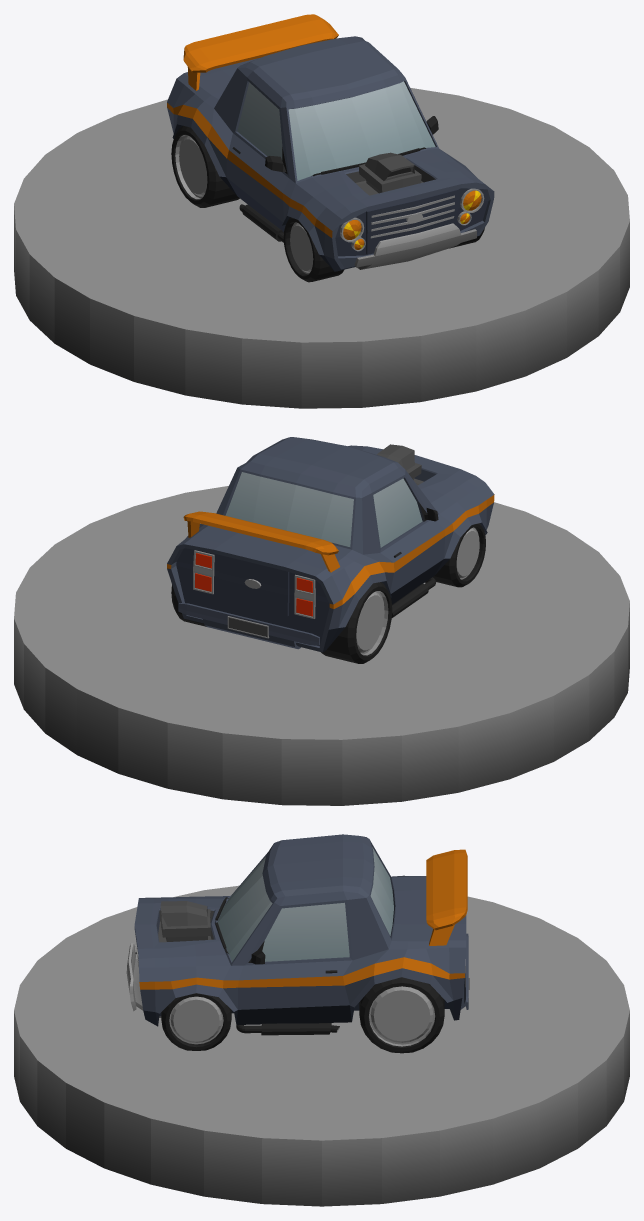
File: little_race_track.glb
3 views of the same model, one above another, from view 1: azimuth 30°, elevation 25°; view 2: azimuth 150°, elevation 25°; view 3: azimuth 270°, elevation 25° (orthographic).
Visible parts, largest first — view 1: stage, BODY, BR, FR; view 2: stage, BODY, BR, FR; view 3: stage, BODY, BL, FL.
Part boxes in pixels (left/top/right/bottom): stage: left=14, top=88, right=629, bottom=408; BODY: left=167, top=14, right=494, bottom=271; BR: left=171, top=125, right=239, bottom=207; FR: left=283, top=217, right=343, bottom=282; stage: left=14, top=486, right=629, bottom=805; BODY: left=167, top=437, right=494, bottom=652; BR: left=321, top=582, right=392, bottom=663; FR: left=433, top=523, right=485, bottom=587; stage: left=14, top=885, right=629, bottom=1206; BODY: left=126, top=834, right=469, bottom=1035; BL: left=359, top=977, right=444, bottom=1053; FL: left=161, top=993, right=231, bottom=1050.
Size of the model in its own units: 6.6 by 2.58 by 6.6.
Materials: 1 (1 with a texture image).
